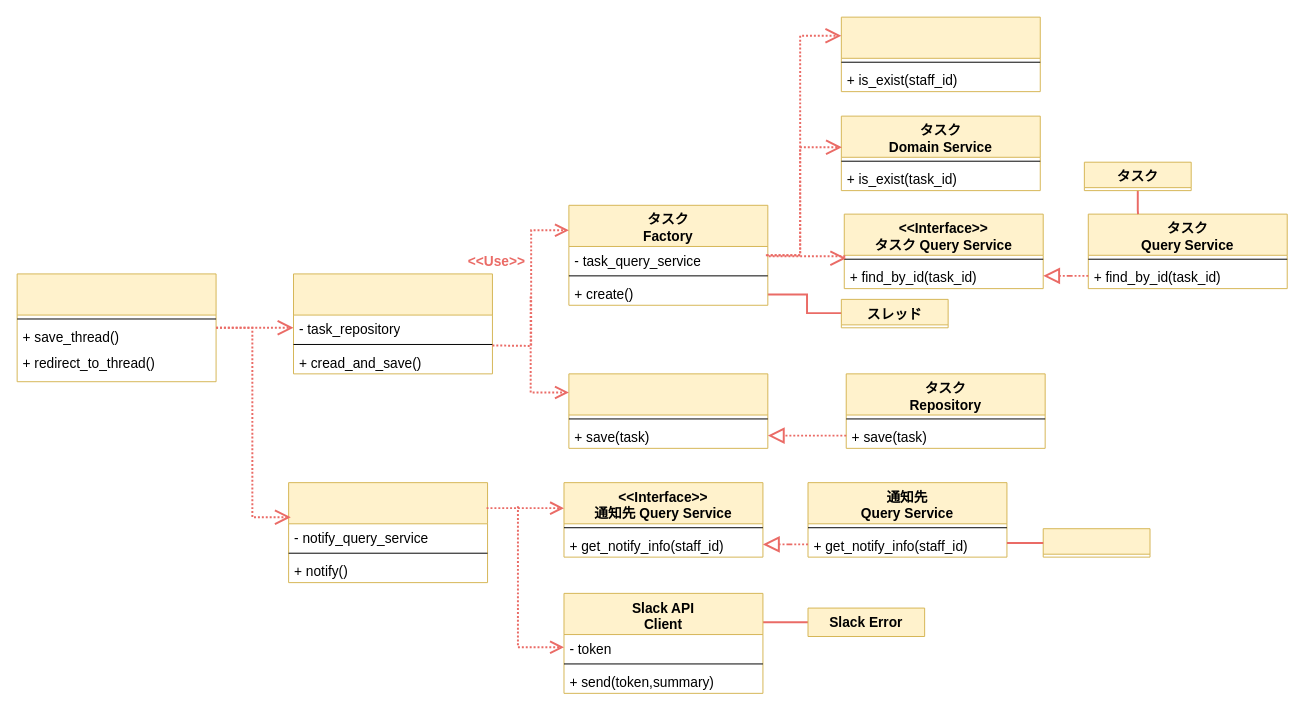
This 1304x713 diagram has some shape labels left out. The box of each missing label's shape, as (x1, y1, x2, y2) in pixels:
<<Interface>> タスク Repository: (568, 373, 768, 448)
Slack通知 Service: (288, 482, 488, 583)
スレッド作成 Service: (293, 273, 492, 374)
登録受付 Contoroller: (16, 273, 216, 382)
社員 Domain Service: (840, 16, 1040, 92)
通知先: (1042, 528, 1150, 557)
